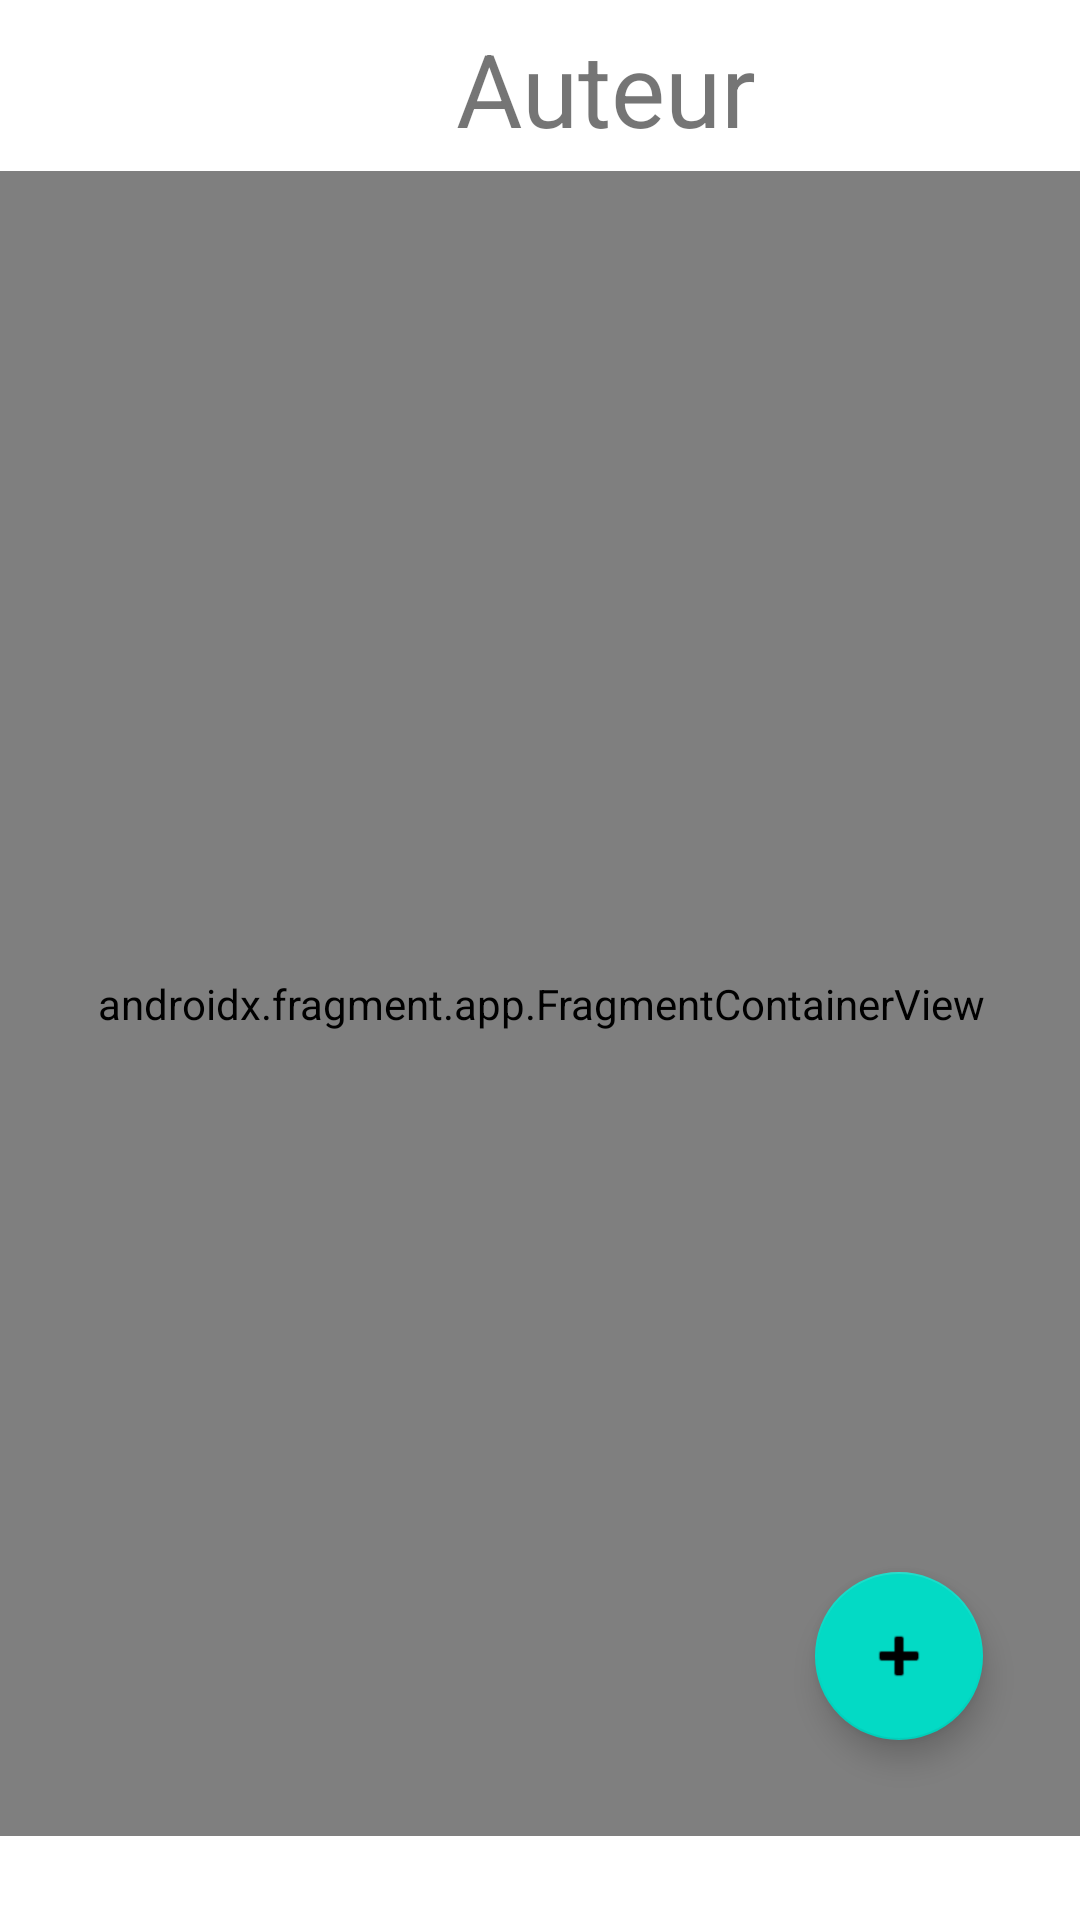

Screen size 1080 x 1920. Icon name, then its center in pixels as (x,y):
add: (899,1656)
